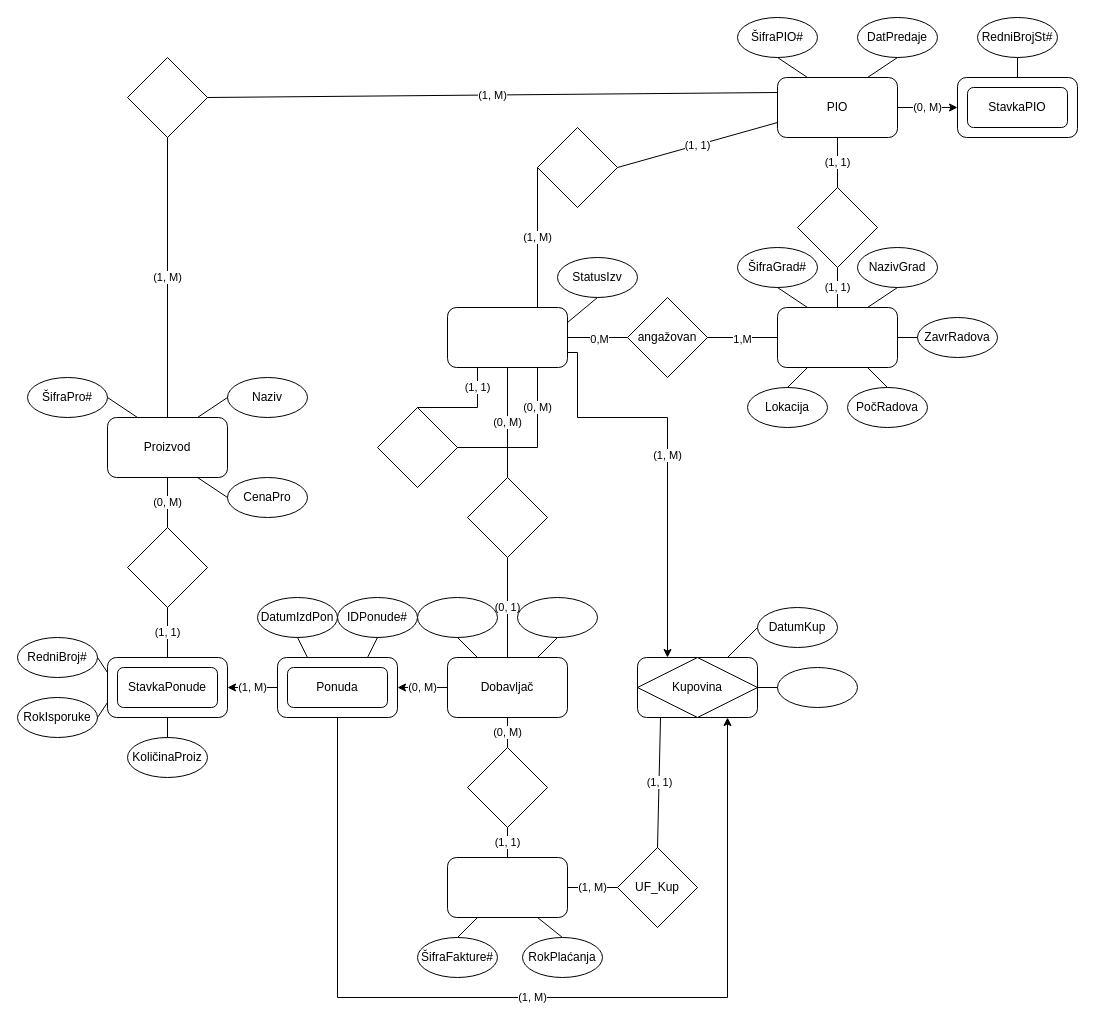
This 1095x1023 diagram has some shape labels left out. Here are the shapes that lost their labels. From the top down, the box of each, then its label:
(126, 56, 208, 138): Pro_PIO
(536, 126, 618, 208): Piše
(796, 186, 878, 268): PIO_Gra
(446, 306, 568, 368): Izvodjač
(776, 306, 898, 368): Gradilište
(376, 406, 458, 488): MentorIzv
(466, 476, 548, 558): Kontakira
(126, 526, 208, 608): Ima
(416, 596, 498, 638): IDDob#
(516, 596, 598, 638): NazivDob
(776, 666, 858, 708): ŠifraKup#
(466, 746, 548, 828): IzdavanjeUF
(446, 856, 568, 918): UlaznaFaktura
